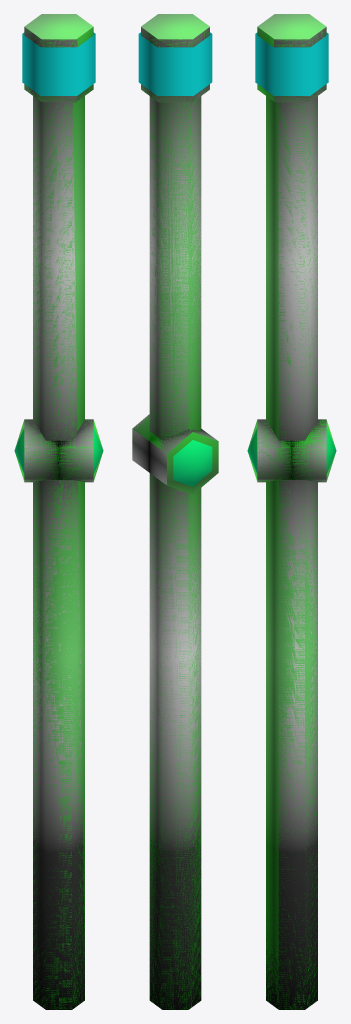
The model's file is checkpoint_pole.fbx.
3 renders of one model, left to right at view 1: azimuth 90°, elevation 25°; view 2: azimuth 210°, elevation 25°; view 3: azimuth 270°, elevation 25°, orthographic.
Visible parts, largest first — view 1: checkpoint_pole, checkpoint_poleCOL; view 2: checkpoint_pole, checkpoint_poleCOL; view 3: checkpoint_pole, checkpoint_poleCOL.
Boxes of the visible parts, left/top/right/bottom form: checkpoint_pole: left=14, top=14, right=103, bottom=1009; checkpoint_poleCOL: left=14, top=14, right=103, bottom=1009; checkpoint_pole: left=132, top=14, right=218, bottom=1009; checkpoint_poleCOL: left=132, top=14, right=218, bottom=1009; checkpoint_pole: left=247, top=14, right=336, bottom=1009; checkpoint_poleCOL: left=247, top=14, right=336, bottom=1009.
Size of the model in its own units: 0.368 by 6.2 by 0.514.
